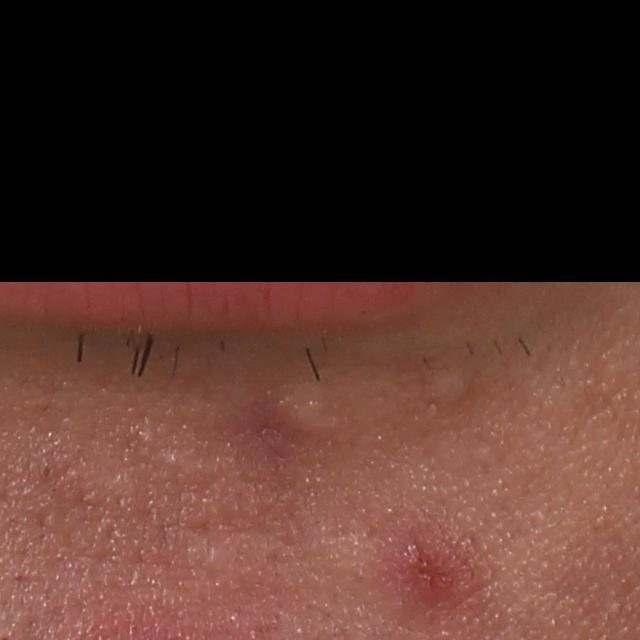comedo: (32, 453, 57, 486)
hypertrophic_scar: (271, 381, 343, 445), (428, 364, 477, 407)
papule: (396, 537, 443, 592)
